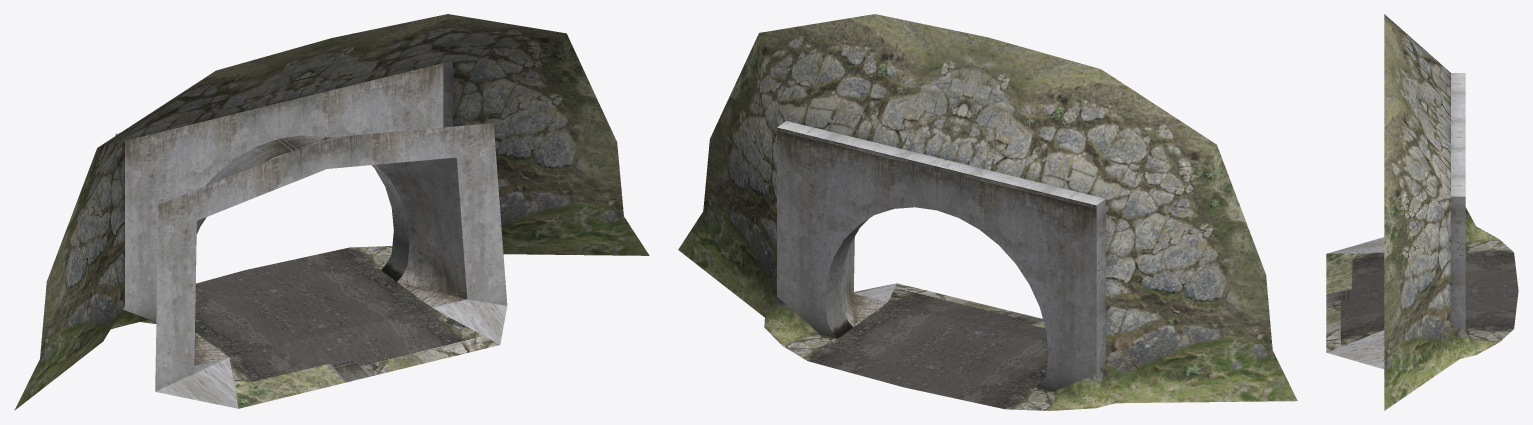
Rendered from Entrance_NIOSH.dae.
The picture shows the model from 3 angles, left to right: view 1: azimuth 30°, elevation 25°; view 2: azimuth 150°, elevation 25°; view 3: azimuth 270°, elevation 25°; orthographic projection. The views are drawn at different scales.
Visible parts, largest first — view 1: Entrance_NIOSH; view 2: Entrance_NIOSH; view 3: Entrance_NIOSH.
Boxes of the visible parts, x1=… form: Entrance_NIOSH: x1=14, y1=14, x2=649, y2=410; Entrance_NIOSH: x1=678, y1=14, x2=1297, y2=410; Entrance_NIOSH: x1=1326, y1=14, x2=1518, y2=410.
Bounding box in the file's own units: 8.33 × 2.82 × 3.9.
